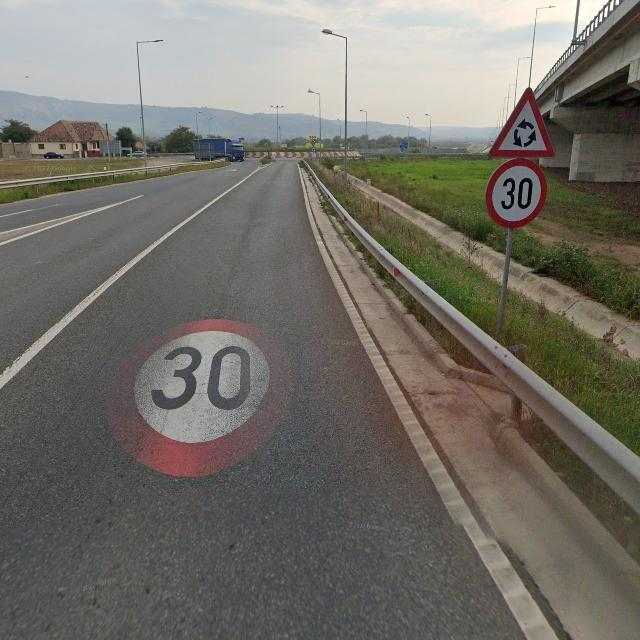forb_speed_over_30: (106, 316, 294, 480), (486, 158, 547, 229)
